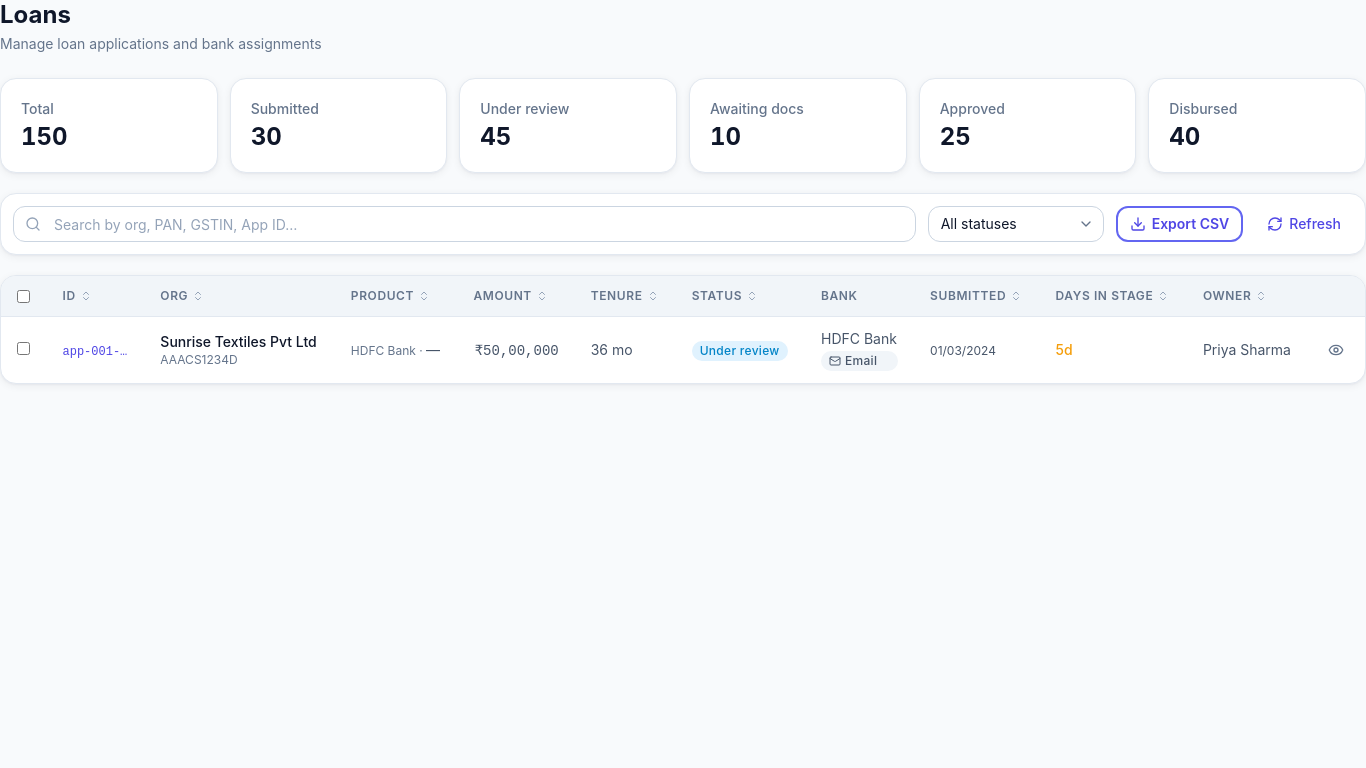
LoansListPage — bulk assign modal › bulk assign modal opens when Assign button clicked
Click the checkbox named "select row": [24, 349] box [17,342,30,355]
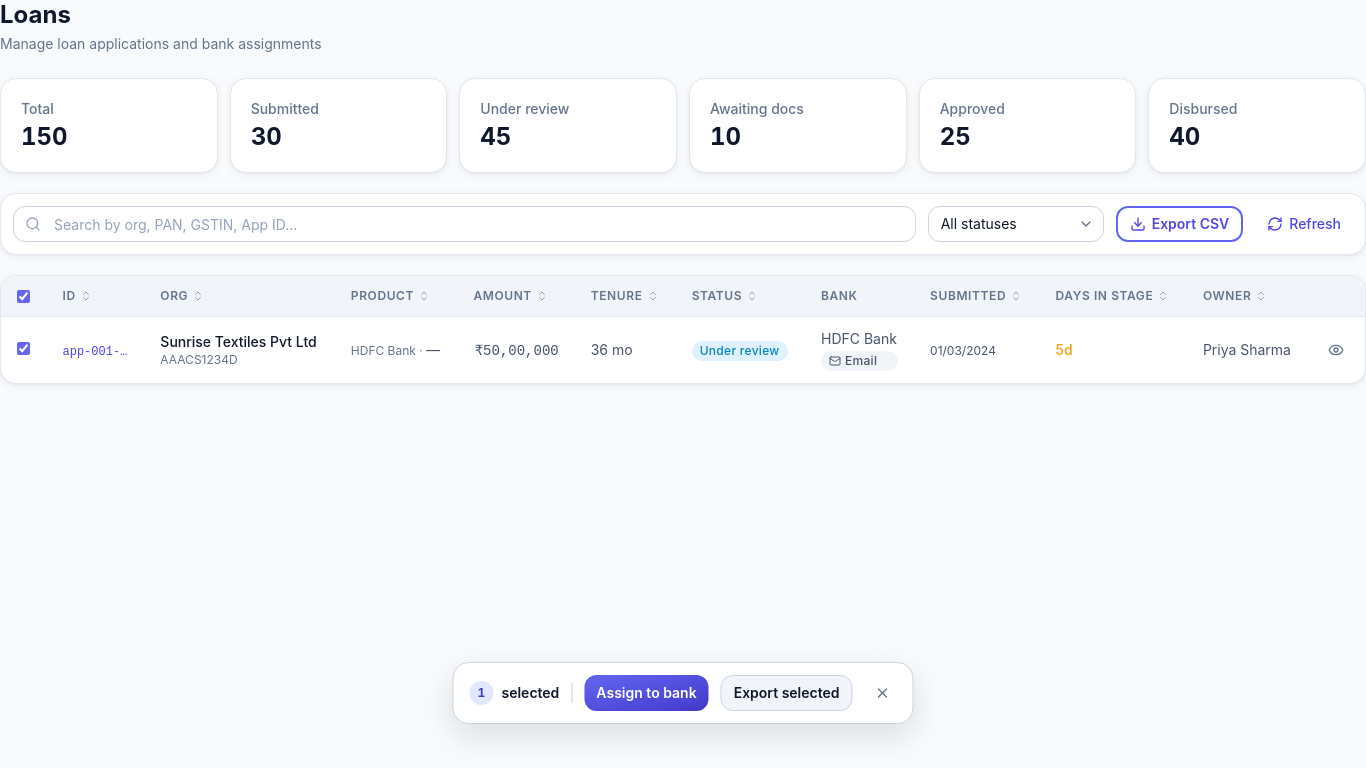
// Find the assign CTA button in the toolbar
Click the button "Assign to bank": [647, 693] box [584,675,709,711]
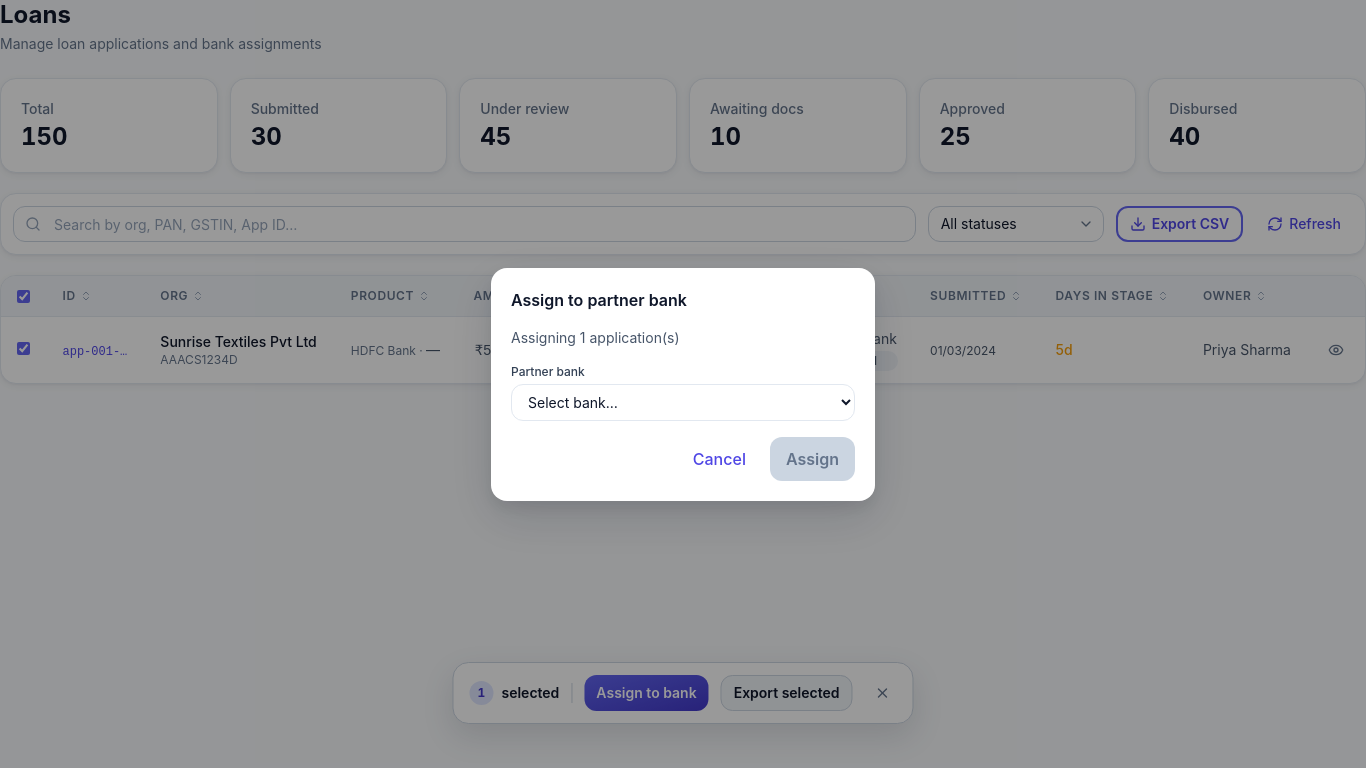
Expected: the dialog is shown
